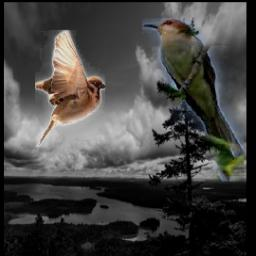Cuckoo: (143, 19, 245, 182)
Sparrow: (35, 30, 105, 147)
